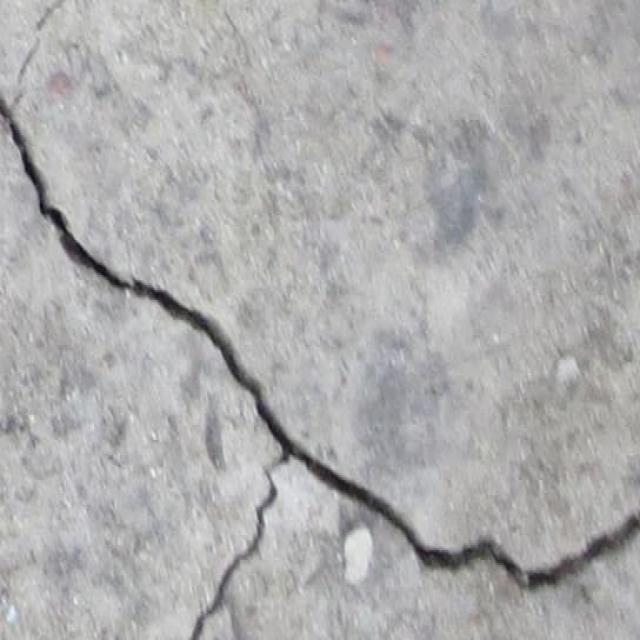crack: (0, 2, 636, 638)
